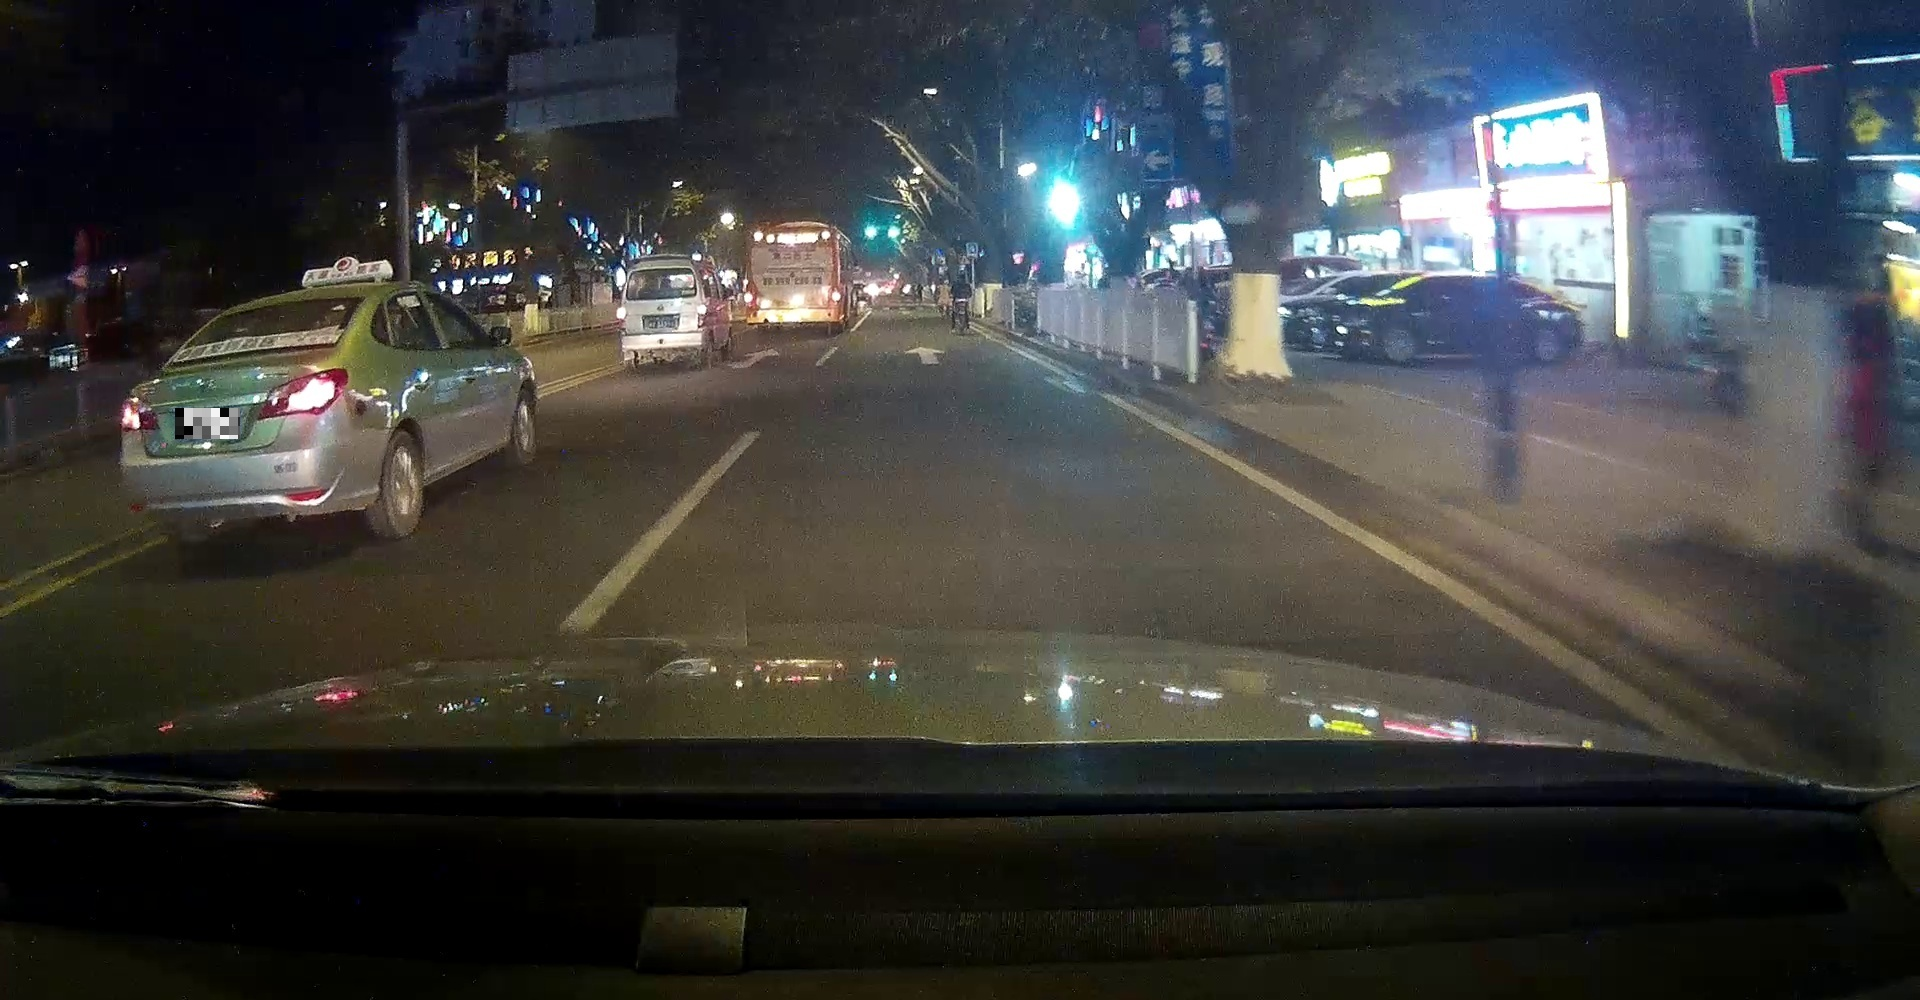L_light: (119, 396, 159, 430), (617, 307, 627, 322), (743, 291, 753, 305)
R_light: (257, 368, 347, 420), (696, 305, 707, 316), (832, 291, 841, 302)
T_light: (265, 306, 291, 313), (787, 228, 797, 234), (651, 269, 664, 272)
night-no: (118, 282, 375, 548), (744, 221, 841, 336), (616, 254, 707, 372)
plate_1: (175, 409, 240, 439)
